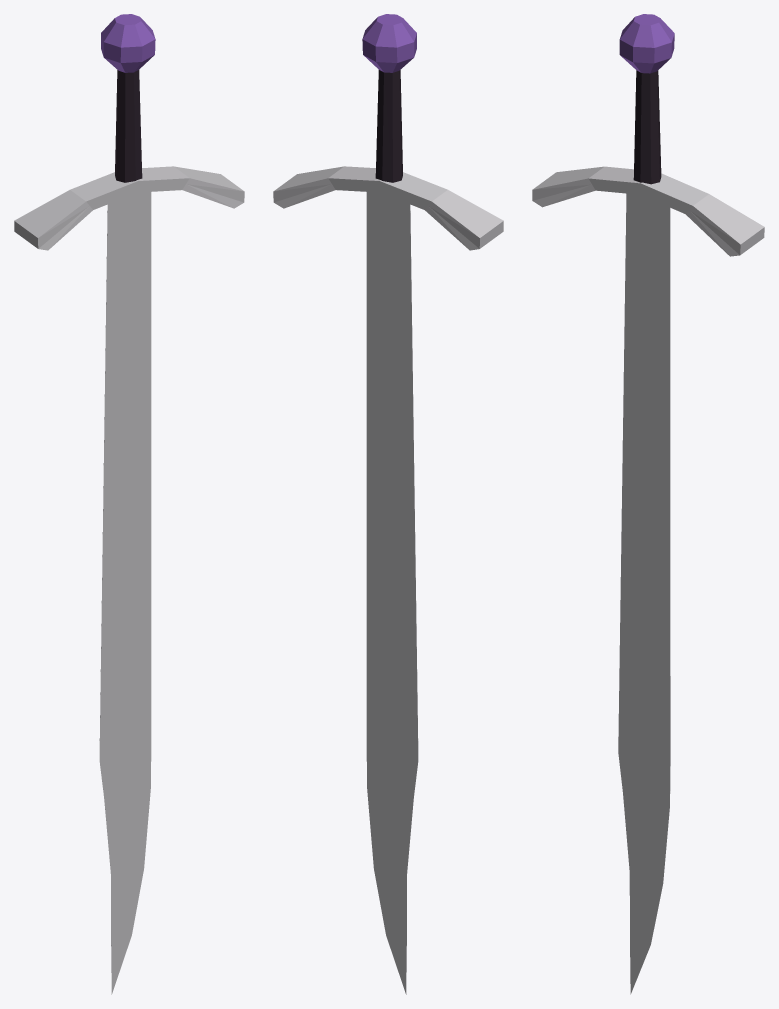
Rendered from scene_genF4z0wNK.glb.
3 views of the same model, side by side, from view 1: azimuth 30°, elevation 25°; view 2: azimuth 150°, elevation 25°; view 3: azimuth 330°, elevation 25° (orthographic).
Visible parts, largest first — view 1: Falchion_sword_Cube.007; view 2: Falchion_sword_Cube.007; view 3: Falchion_sword_Cube.007.
Boxes of the visible parts, x1,y1,x2,y2 form: Falchion_sword_Cube.007: [14, 14, 244, 994]; Falchion_sword_Cube.007: [273, 14, 503, 994]; Falchion_sword_Cube.007: [532, 14, 764, 994].
Bounding box in the file's own units: 2.96 × 13.28 × 0.7007.
